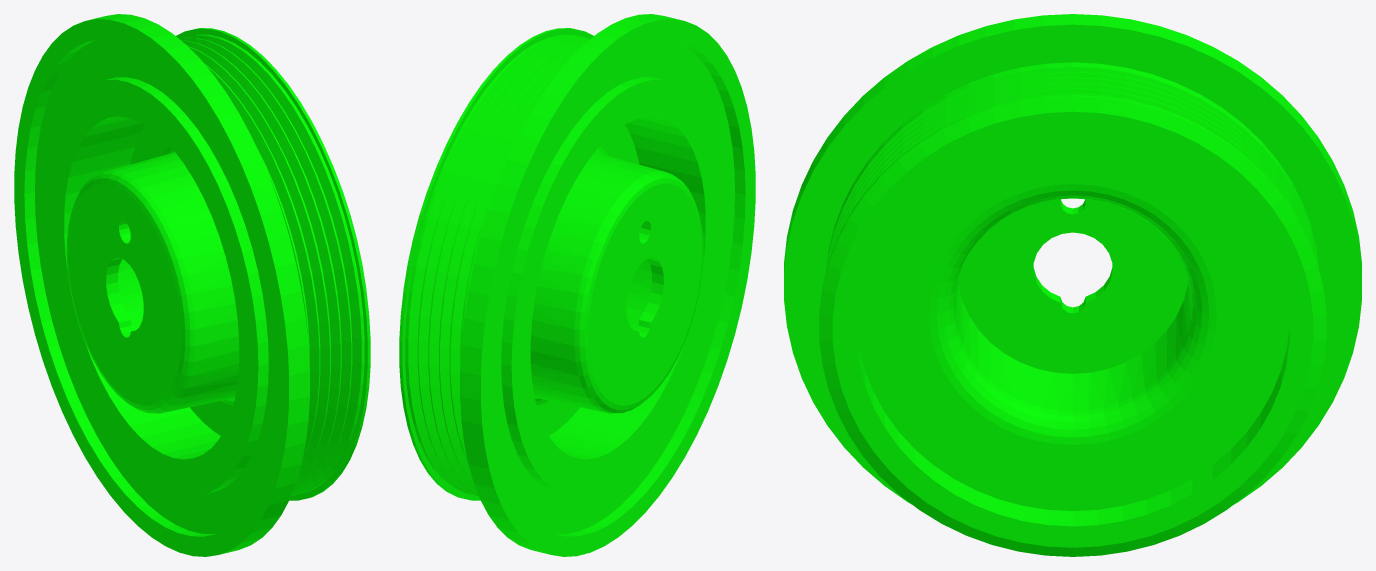
File: Шкиф.fbx
The picture shows the model from 3 angles, left to right: view 1: azimuth 30°, elevation 25°; view 2: azimuth 150°, elevation 25°; view 3: azimuth 270°, elevation 25°; orthographic projection. The views are drawn at different scales.
Visible parts, largest first — view 1: Shape_IndexedFaceSet.002; view 2: Shape_IndexedFaceSet.002; view 3: Shape_IndexedFaceSet.002.
Part boxes in pixels (x1,y1,x2,y2): Shape_IndexedFaceSet.002: [14, 14, 370, 556]; Shape_IndexedFaceSet.002: [399, 14, 755, 556]; Shape_IndexedFaceSet.002: [784, 14, 1361, 556].
Bounding box in the file's own units: 4400 × 16000 × 15979.
